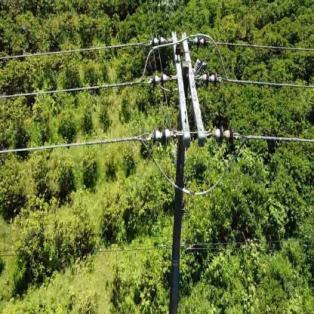Poste: (167, 59, 192, 314)
